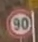limite 90: (5, 8, 34, 37)
